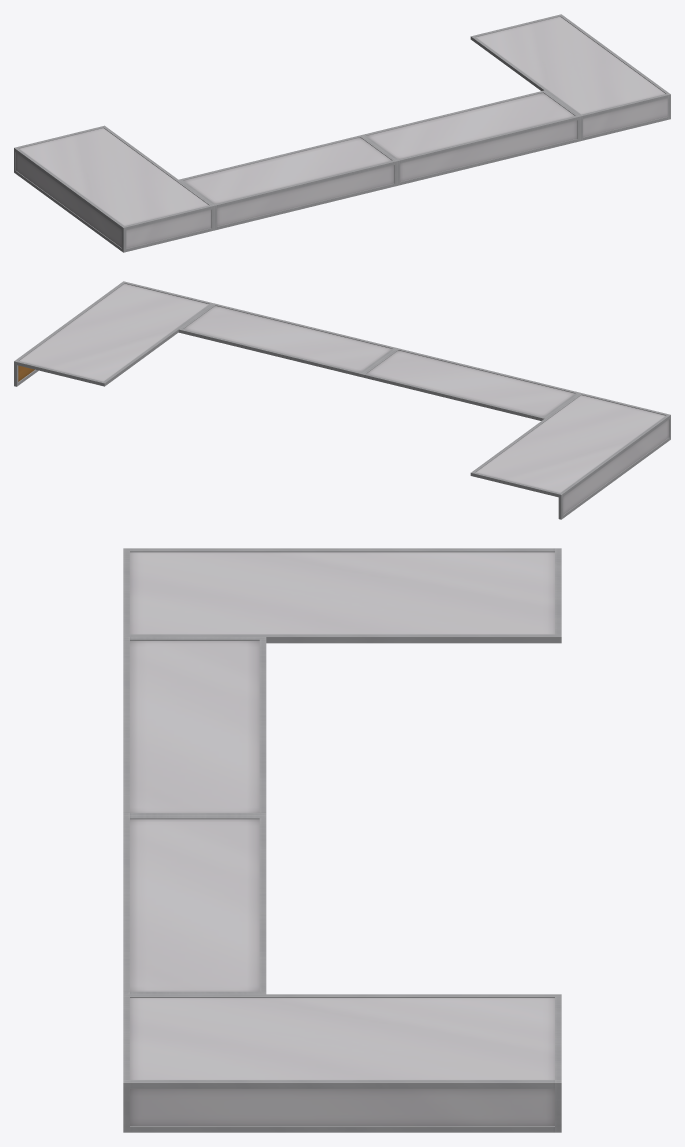
File: jsf_2P_s03_c04_t04_DX.fbx
The picture shows the model from 3 angles, top to bottom: view 1: azimuth 30°, elevation 25°; view 2: azimuth 150°, elevation 25°; view 3: azimuth 270°, elevation 25°; orthographic projection. The views are drawn at different scales.
Visible parts, largest first — view 1: jsf_2P_s03_c04_t04_DX; view 2: jsf_2P_s03_c04_t04_DX; view 3: jsf_2P_s03_c04_t04_DX.
Part boxes in pixels (x1,y1,x2,y2): jsf_2P_s03_c04_t04_DX: (14, 14, 670, 252); jsf_2P_s03_c04_t04_DX: (14, 281, 670, 519); jsf_2P_s03_c04_t04_DX: (123, 548, 561, 1132).
Size of the model in its own units: 289 by 12.51 by 100.
